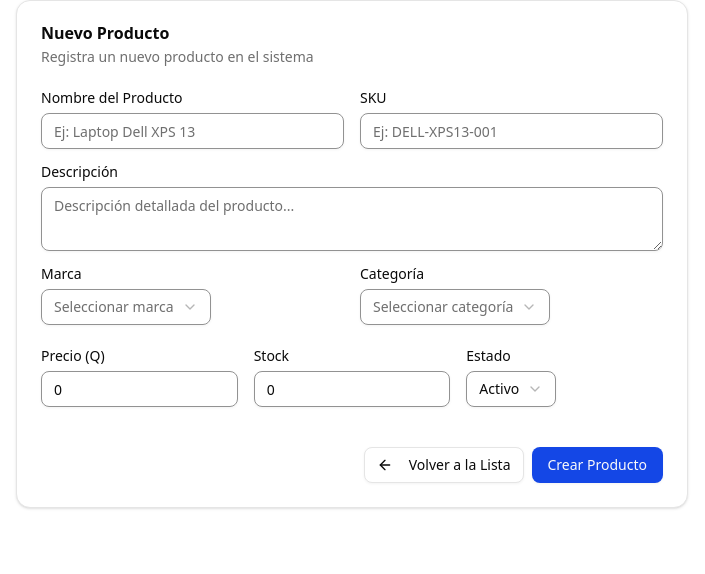
ProductForm › clears the message of a field once it is corrected
The width and height of the screenshot is (705, 574).
Click the button "Crear Producto" at (597, 465), box [532,447,663,483]
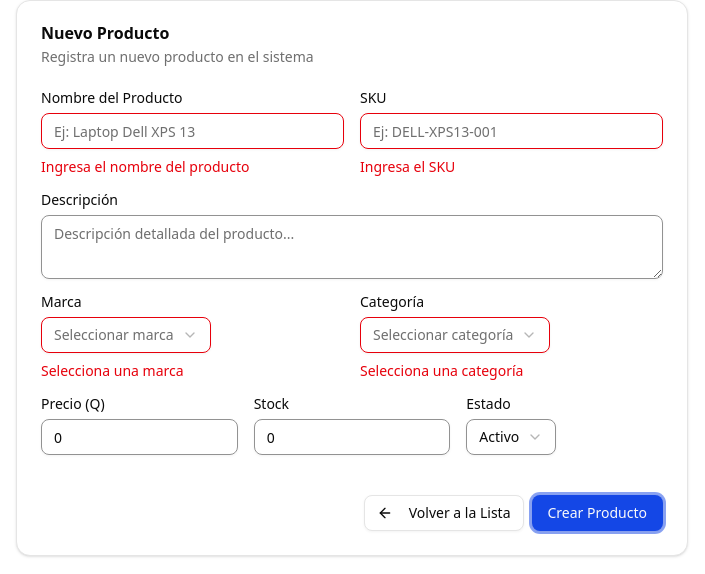
Expected: the text "Ingresa el SKU" is shown, [360,157,455,176]
Type "HDMI-001" into the field labelled "SKU" at (512, 131), box [360,113,663,149]
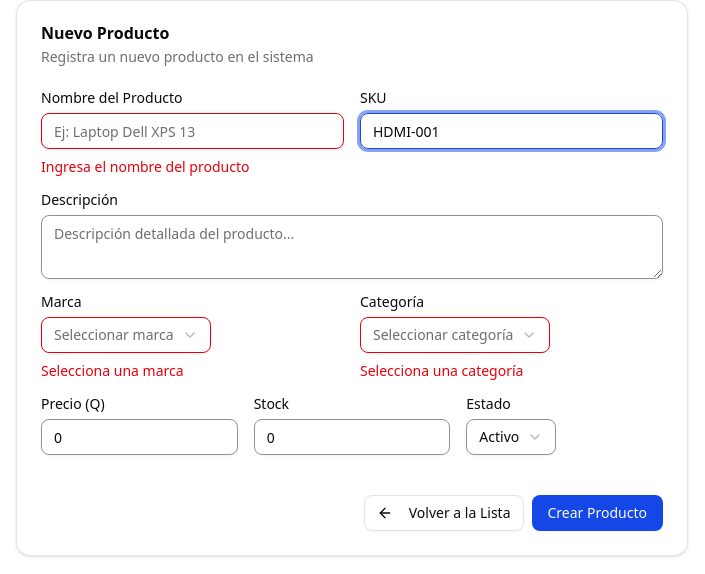
Expected: the text "Ingresa el nombre del producto" is shown, [41,157,250,176]
Expected: the text "Ingresa el SKU" is gone
